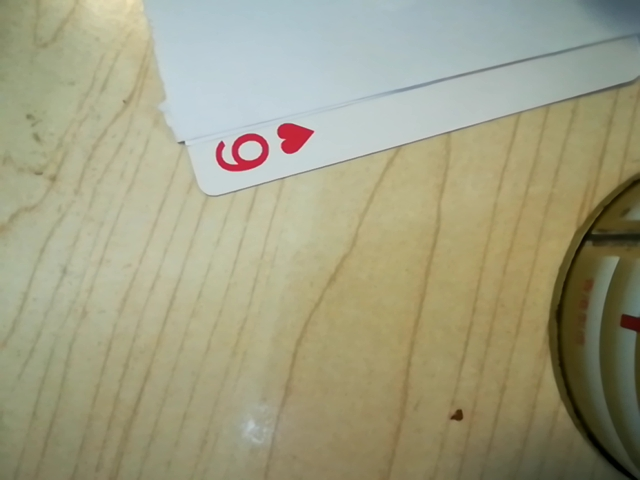hx 6: (202, 119, 314, 182)
